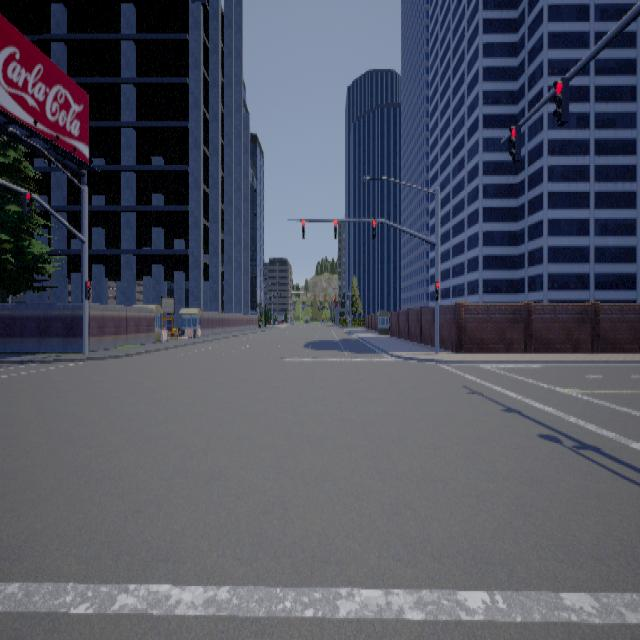red_light: (552, 76, 568, 124), (508, 123, 520, 162), (22, 190, 31, 216), (84, 280, 90, 298), (434, 280, 438, 300), (371, 218, 375, 238), (334, 218, 336, 238), (302, 218, 304, 238)
